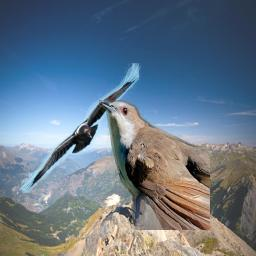Crow: (19, 63, 141, 193)
Cuckoo: (99, 100, 210, 230)
